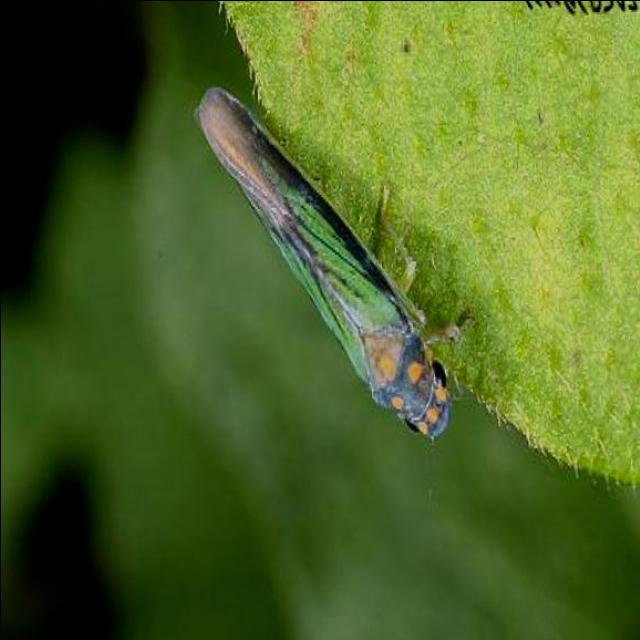green leaf hopper: (195, 87, 466, 440)
